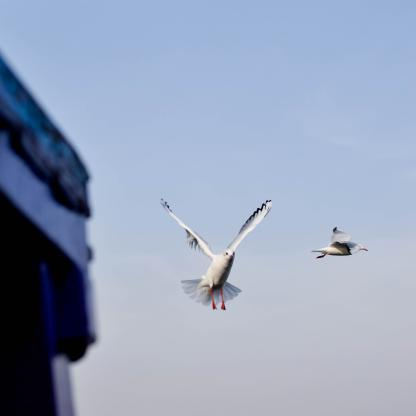bird: (159, 197, 272, 310), (310, 227, 368, 259)
